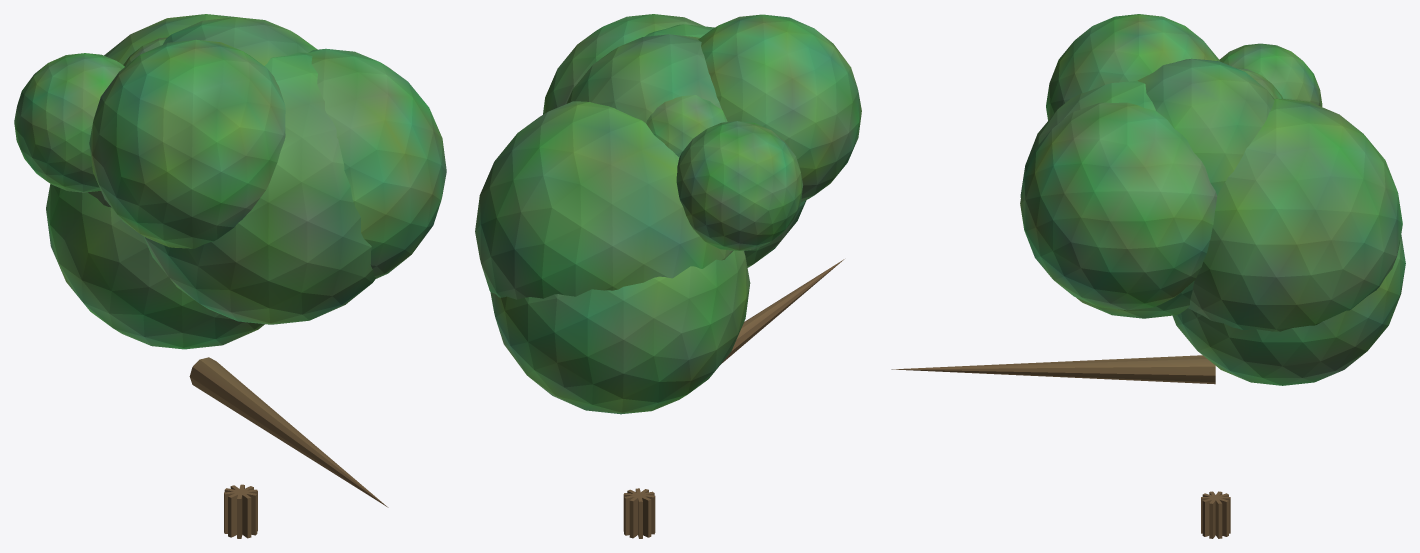
Rendered from tree_2.glb.
The picture shows the model from 3 angles, left to right: view 1: azimuth 30°, elevation 25°; view 2: azimuth 150°, elevation 25°; view 3: azimuth 270°, elevation 25°; orthographic projection. The views are drawn at different scales.
Parts seen in each view (by area): view 1: world; view 2: world; view 3: world.
Boxes of the visible parts, x1,y1,x2,y2 form: world: (14,14,446,538); world: (475,14,861,538); world: (891,14,1405,538).
Bounding box in the file's own units: 5.22 × 8.07 × 7.99.
